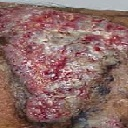Pyoderma Gangrenosum: (3, 13, 117, 125)
